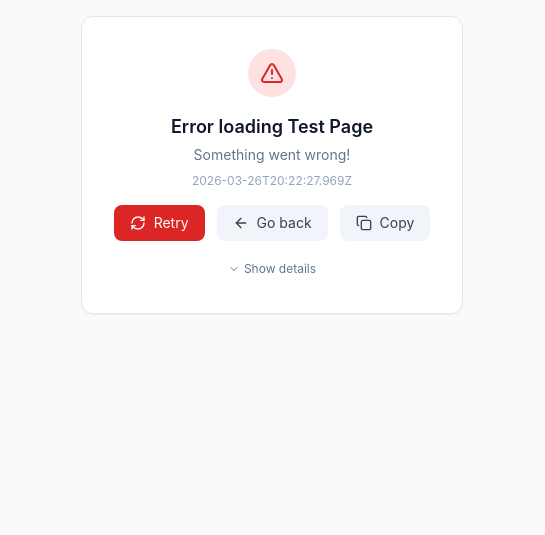
Test: PageErrorBoundary › toggles error details
Click the button with test id "page-error-toggle-details": x=272, y=269 [228,261,316,277]
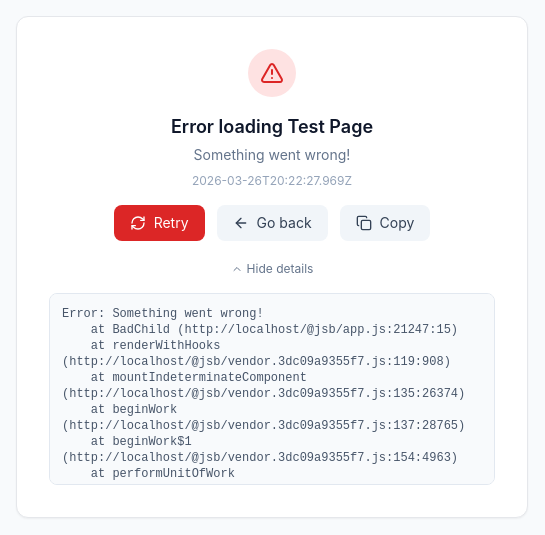
Check: the button with test id "page-error-toggle-details" reads "Hide details"
Check: the text with test id "page-error-details" is shown, box [49,293,495,485]
Click the button with test id "page-error-toggle-details": x=272, y=269 [231,261,313,277]
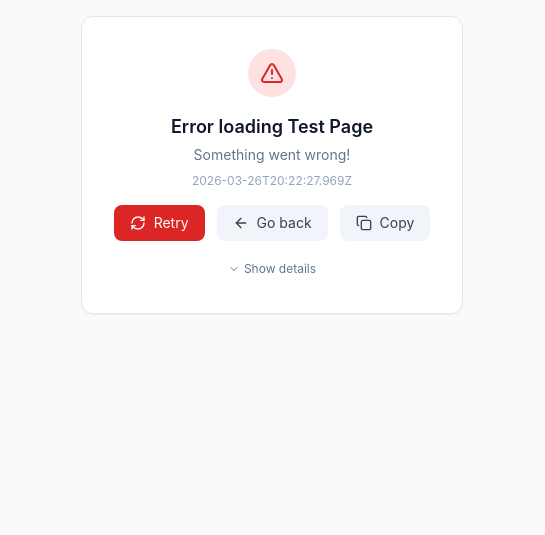
Check: the text with test id "page-error-details" is gone
